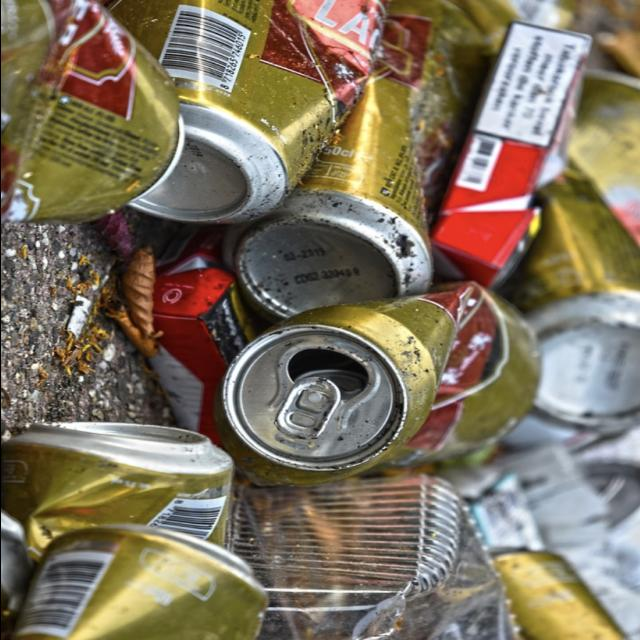can: (203, 281, 516, 488), (6, 426, 280, 546)
